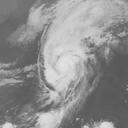cyclone: (39, 24, 96, 96)
